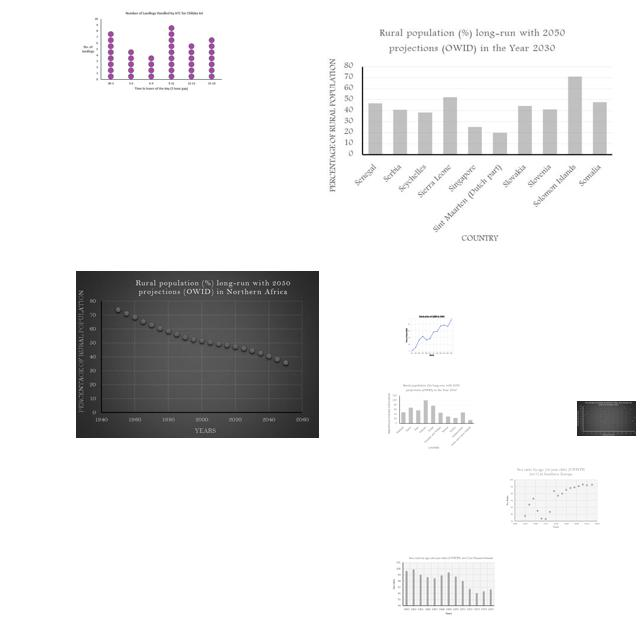Graph: (322, 23, 615, 249), (76, 271, 319, 438), (77, 8, 225, 94), (390, 554, 496, 617), (504, 467, 601, 530), (386, 383, 475, 451), (402, 313, 460, 357), (577, 401, 636, 436)
